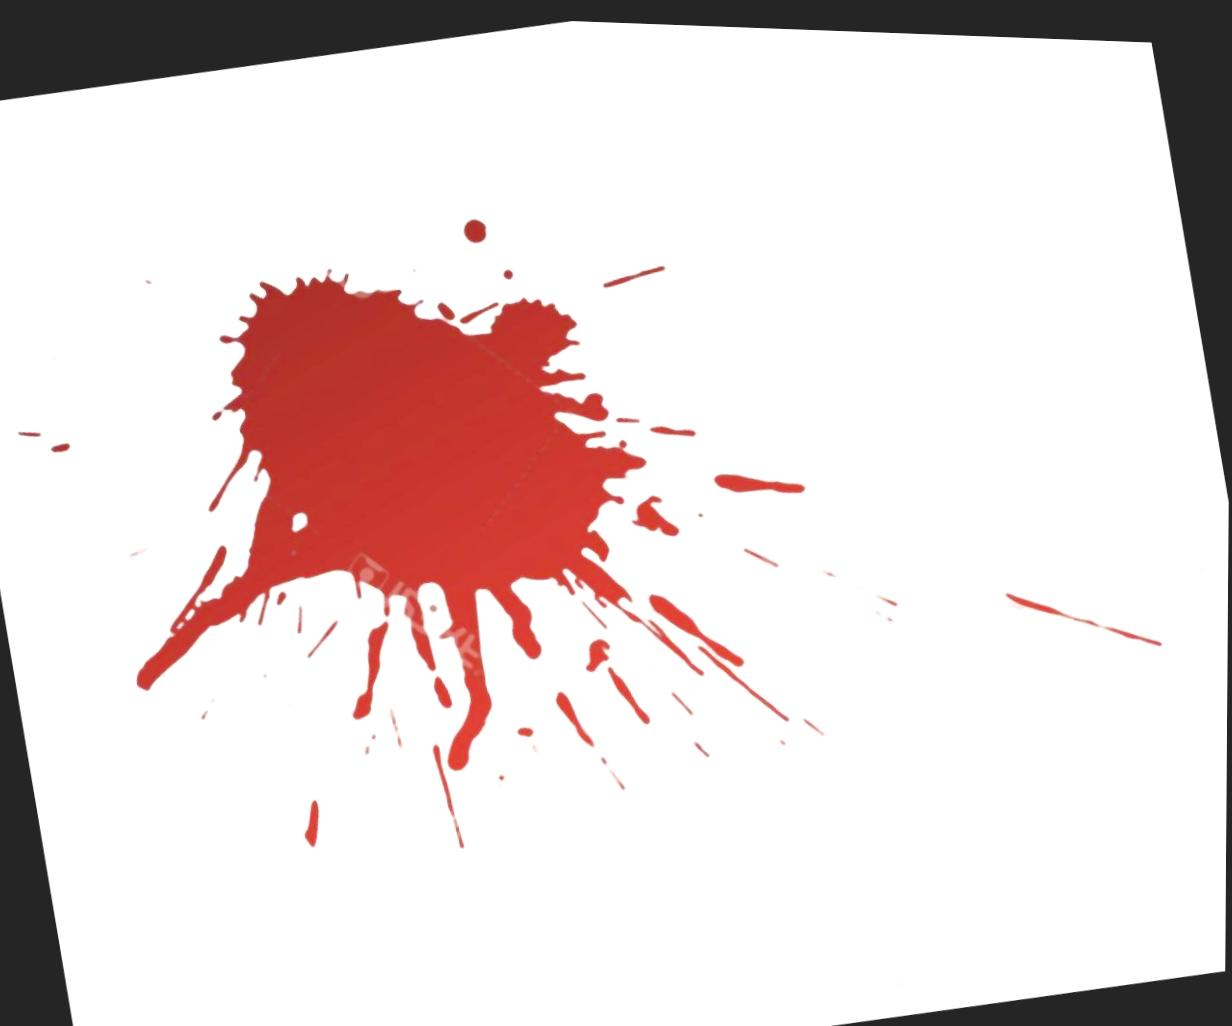Fire: (136, 266, 705, 768)
